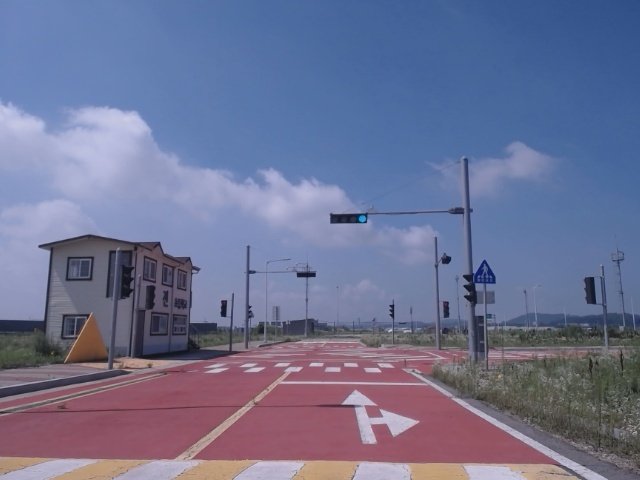straight_green_4: (329, 215, 369, 224)
